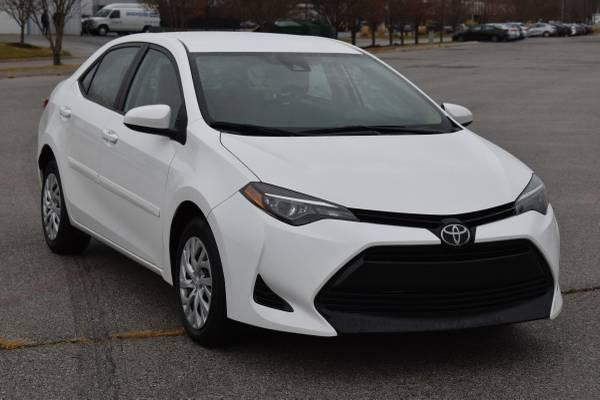Front_Bumper: (206, 194, 564, 337)
Front_Fender: (160, 121, 269, 283)
Front_Right_Door: (92, 111, 178, 275)
Front_Right_Window: (114, 42, 183, 141)
Front_Windshield: (188, 50, 460, 135)
Grille: (314, 236, 556, 338)
Hood: (221, 129, 533, 229)
Left_Headlight: (515, 171, 548, 217)
Rear_Fender: (34, 78, 74, 161)
Rear_Right_Door: (49, 86, 115, 241)
Rear_Right_Window: (74, 38, 143, 111)
Right_Headlight: (238, 181, 360, 230)
Roof: (61, 29, 365, 128)
Wheel: (175, 212, 226, 327), (34, 161, 85, 247)
